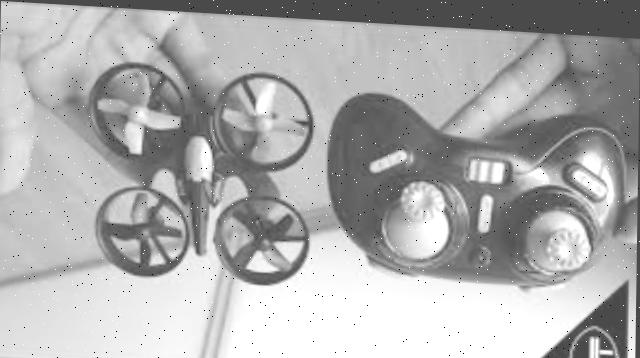drone: (86, 46, 324, 301)
